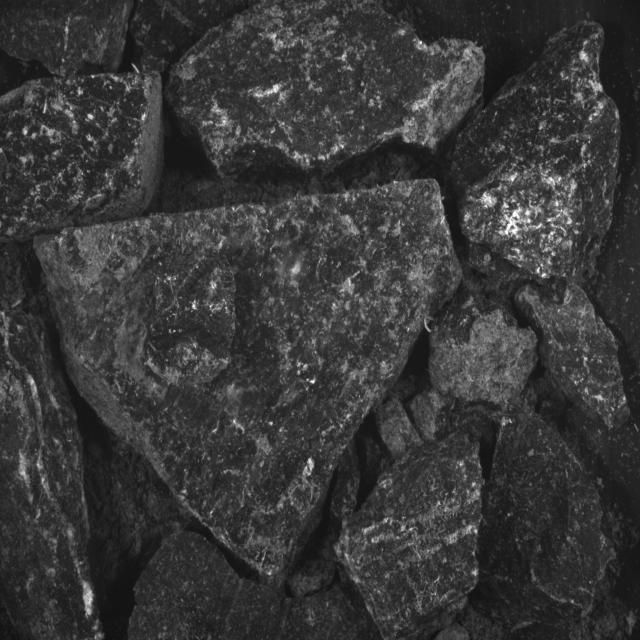Stones: (36, 181, 462, 582), (166, 1, 485, 180), (452, 22, 621, 281), (1, 313, 104, 640), (337, 434, 484, 640), (477, 415, 614, 627), (1, 74, 165, 241), (130, 531, 369, 640), (516, 286, 631, 430), (430, 291, 539, 404), (1, 1, 134, 77), (376, 397, 424, 460), (195, 610, 196, 612)
